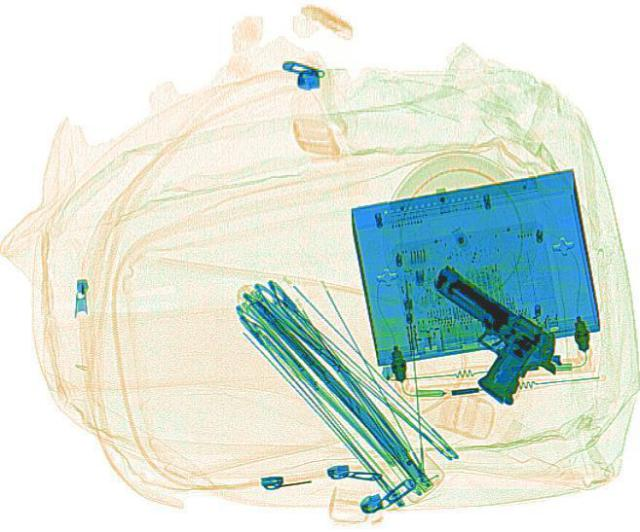Gun: (378, 259, 578, 408)
